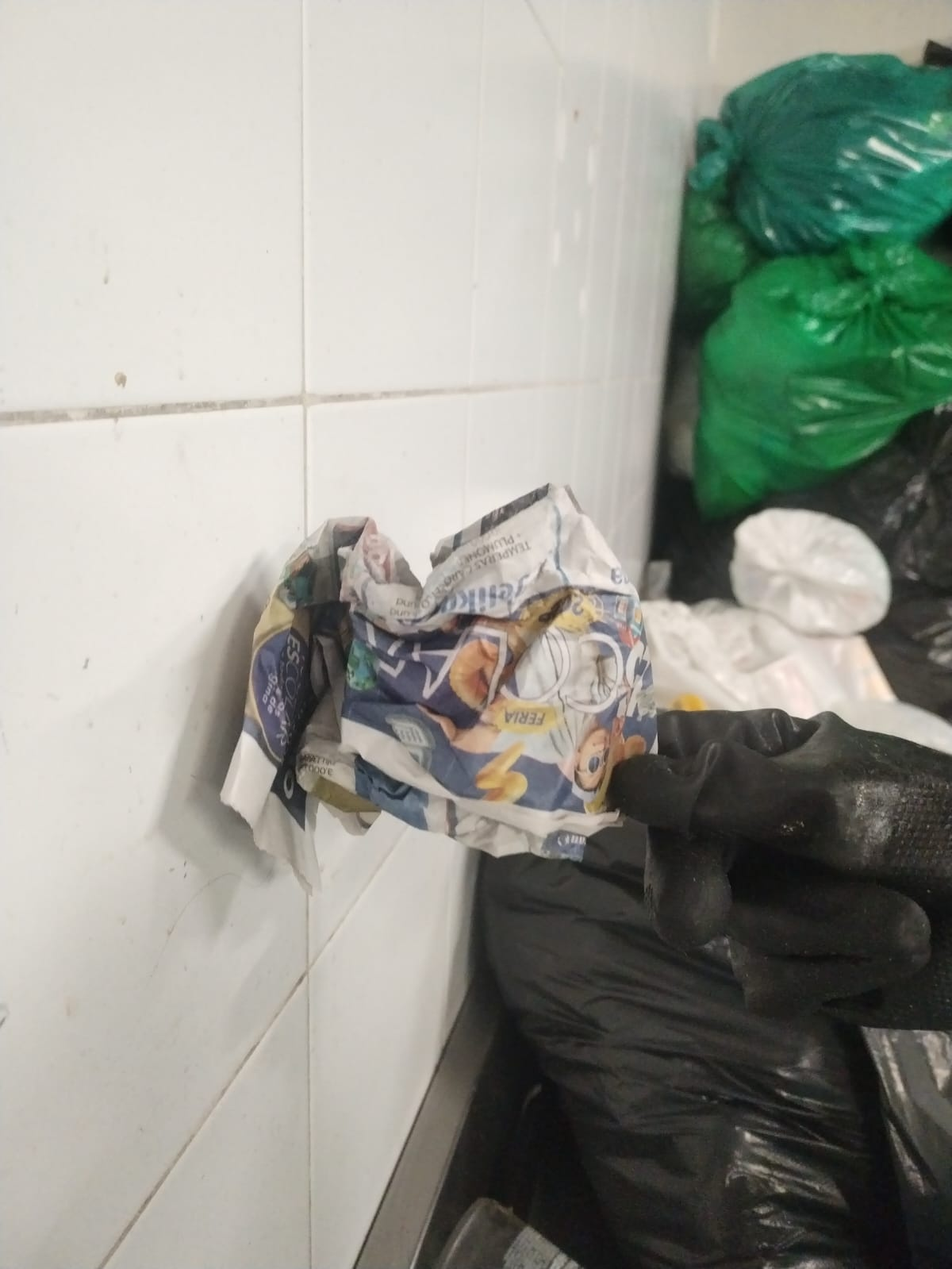Papel: (225, 485, 676, 887)
